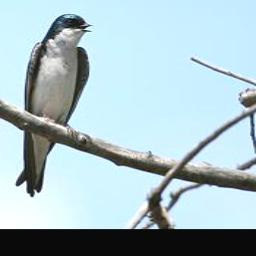Swallow: (15, 13, 94, 197)
